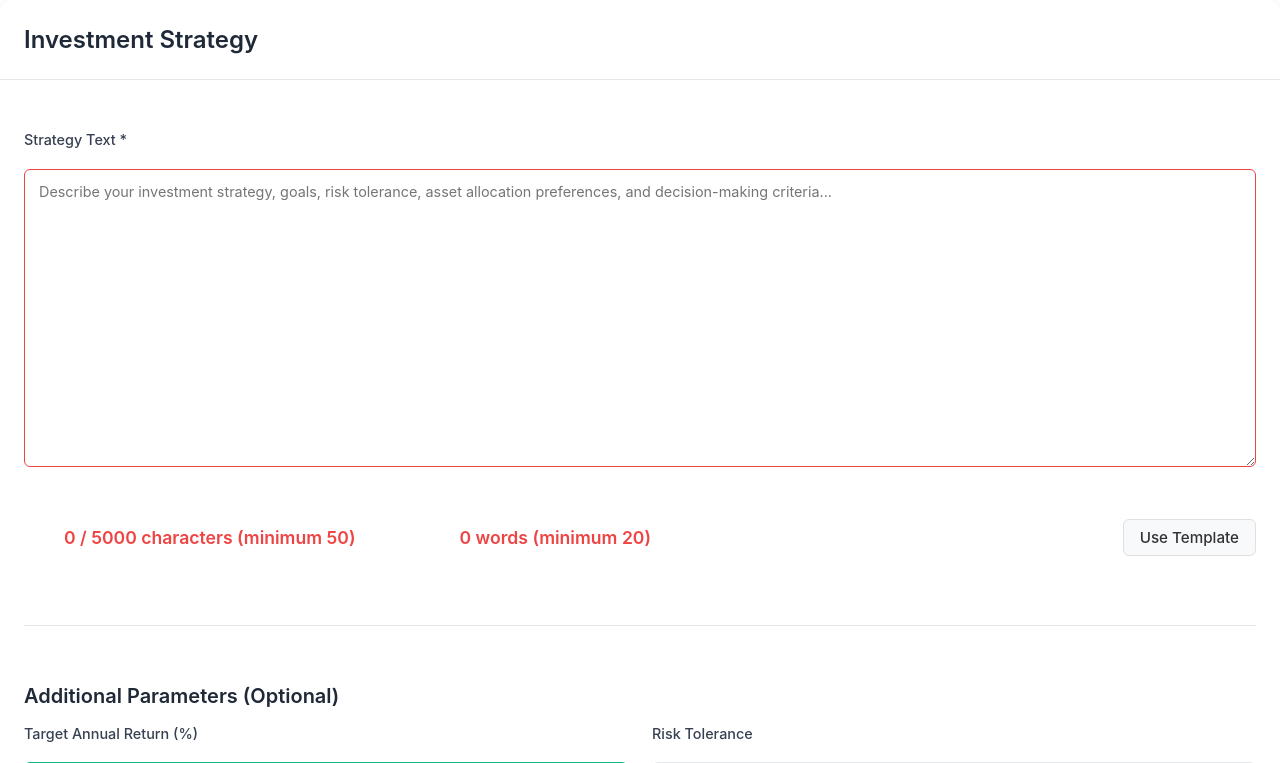
Test: StrategyEditorCard › should update character count as user types
Step 1. Replace the text in the text box labelled "Strategy Text *" with "This is my investment strategy" → (640,318), box 24,169 -> 1256,467
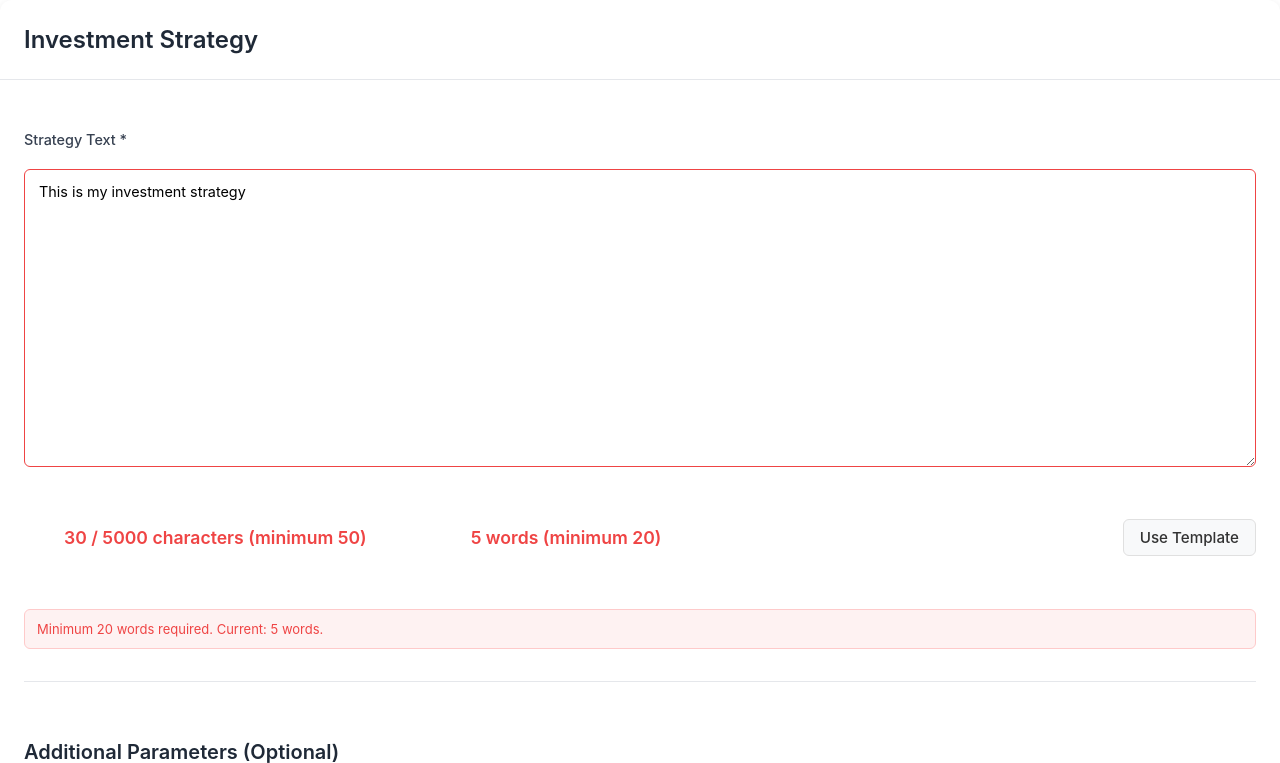
Check: the element with class "counters" shows "5000 characters", box 64,527 -> 661,548
Check: the element with class "counters" shows "30", box 64,527 -> 87,548
